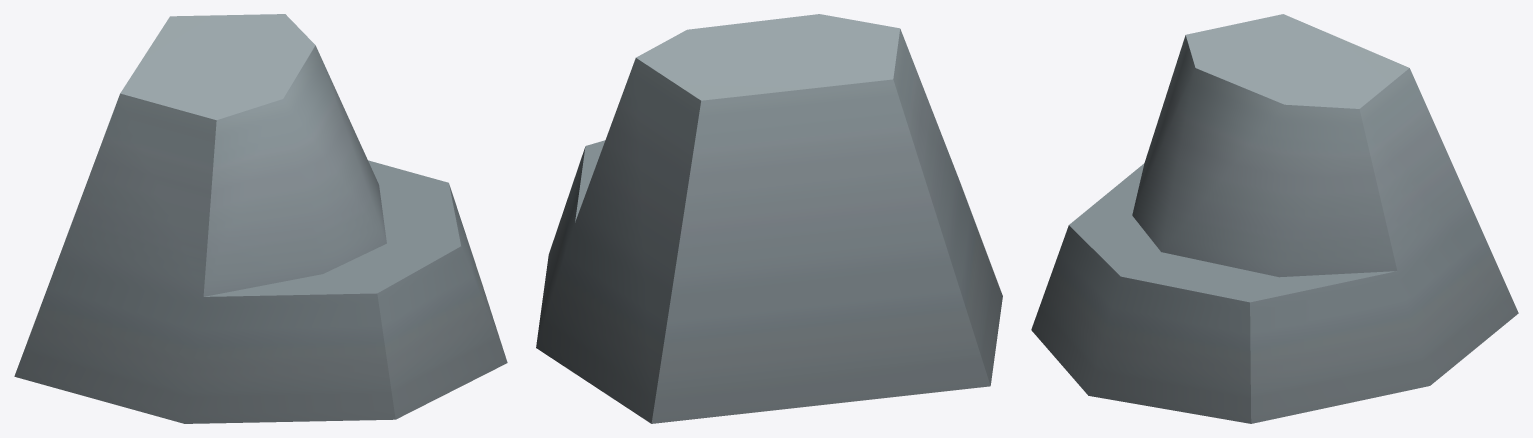
File: rock_single_c.glb
3 renders of one model, left to right at view 1: azimuth 30°, elevation 25°; view 2: azimuth 150°, elevation 25°; view 3: azimuth 270°, elevation 25°, orthographic. The views are drawn at different scales.
Parts seen in each view (by area): view 1: rock_single_C; view 2: rock_single_C; view 3: rock_single_C.
Part boxes in pixels (x1=…): rock_single_C: x1=14, y1=14, x2=507, y2=423; rock_single_C: x1=536, y1=14, x2=1002, y2=423; rock_single_C: x1=1031, y1=14, x2=1518, y2=423.
Size of the model in its own units: 0.3439 by 0.1948 by 0.3442.
1 material, 1 textured.
